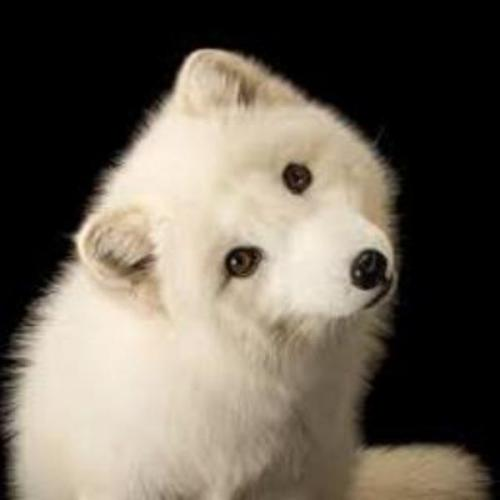arctic_fox-endangered: (0, 47, 490, 500)
